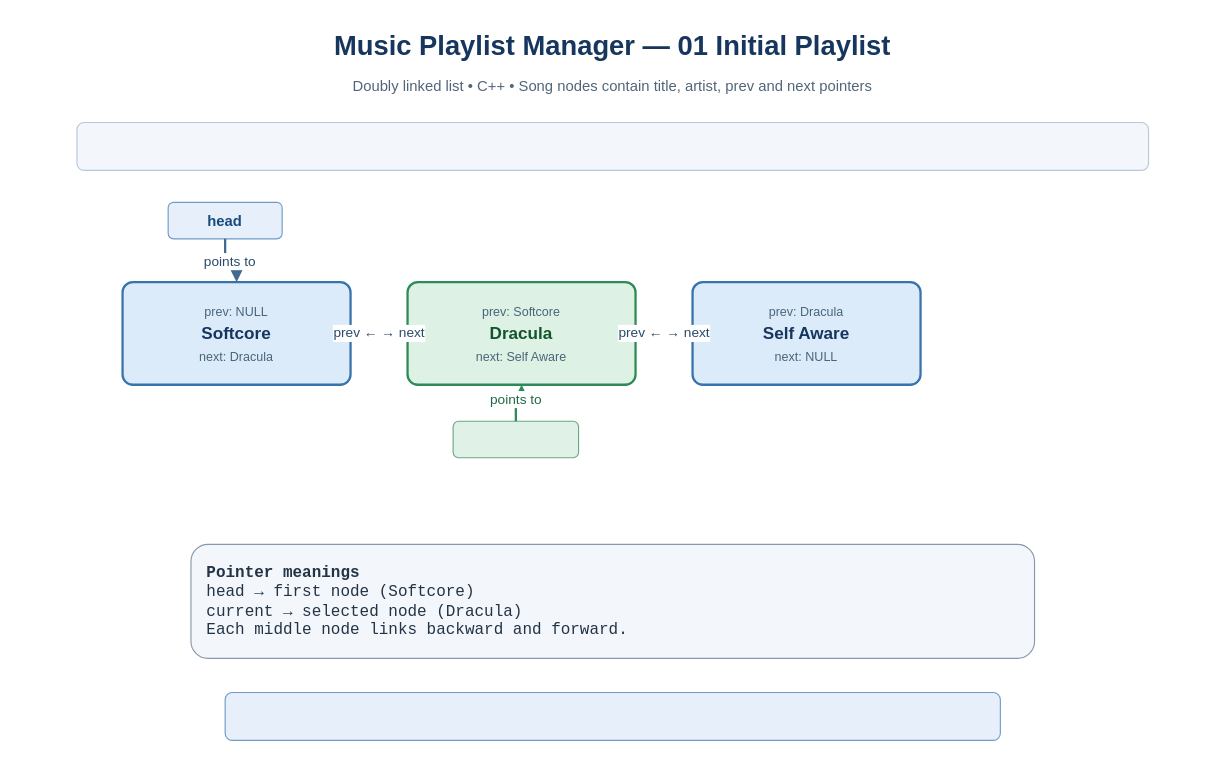
Some shapes in this 1224 by 760 pixel diagram are drawn without their labels. The shapes that lost their labels are listed below. From the top down, each one's centre as x and y in pixels, then its label:
point 612,145: INITIAL STATE
point 515,439: current
point 612,715: First node: prev = NULL • Last node: next = NULL
